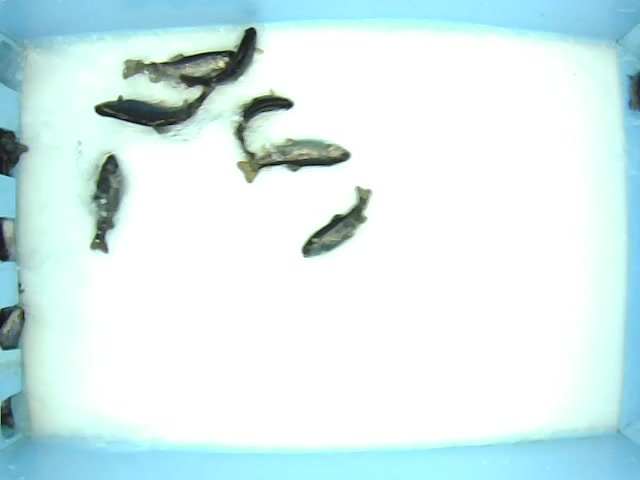fish: (93, 81, 217, 135), (233, 134, 351, 185), (300, 184, 374, 261), (177, 24, 264, 89), (234, 88, 297, 164), (121, 48, 246, 85), (85, 152, 127, 255)
